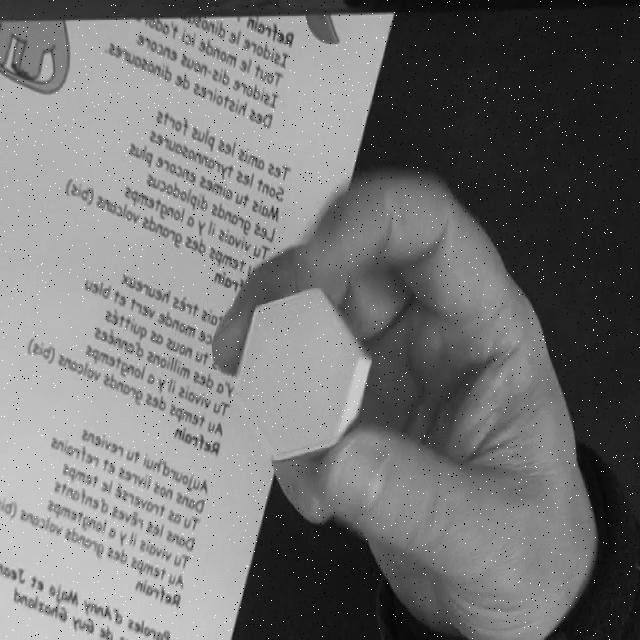hexagon: (233, 285, 371, 460)
